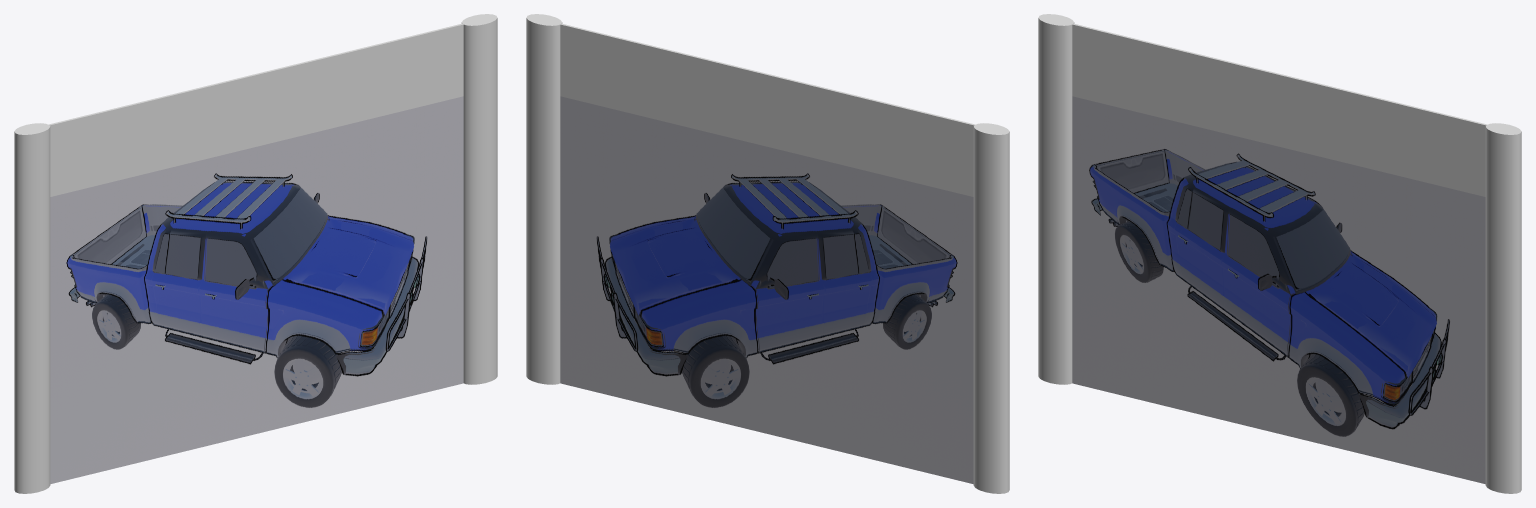
The model's file is image-gate-pickup.fbx.
The picture shows the model from 3 angles, left to right: view 1: azimuth 30°, elevation 25°; view 2: azimuth 150°, elevation 25°; view 3: azimuth 330°, elevation 25°; orthographic projection.
Parts seen in each view (by area): view 1: image-gate-pickup, upper-plane.006, cylinder-R.006, cylinder-L.006; view 2: image-gate-pickup, upper-plane.006, cylinder-R.006, cylinder-L.006; view 3: image-gate-pickup, upper-plane.006, cylinder-L.006, cylinder-R.006.
Boxes of the visible parts, x1,y1,x2,y2 form: image-gate-pickup: (50, 96, 463, 484); upper-plane.006: (40, 21, 471, 196); cylinder-R.006: (14, 123, 50, 493); cylinder-L.006: (461, 14, 497, 384); image-gate-pickup: (560, 96, 973, 484); upper-plane.006: (552, 21, 974, 196); cylinder-R.006: (973, 123, 1009, 493); cylinder-L.006: (526, 14, 562, 384); image-gate-pickup: (1072, 96, 1485, 484); upper-plane.006: (1064, 21, 1495, 196); cylinder-L.006: (1485, 123, 1521, 493); cylinder-R.006: (1038, 14, 1074, 384).
Bounding box in the file's own units: 4.36 × 3.11 × 0.183.
